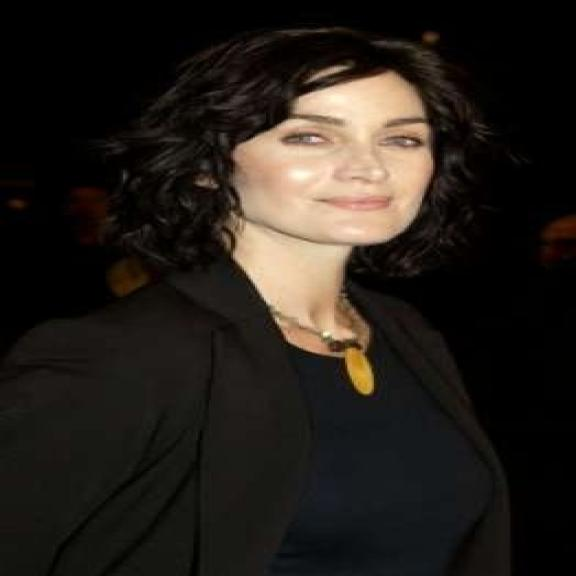face: (192, 25, 446, 256)
